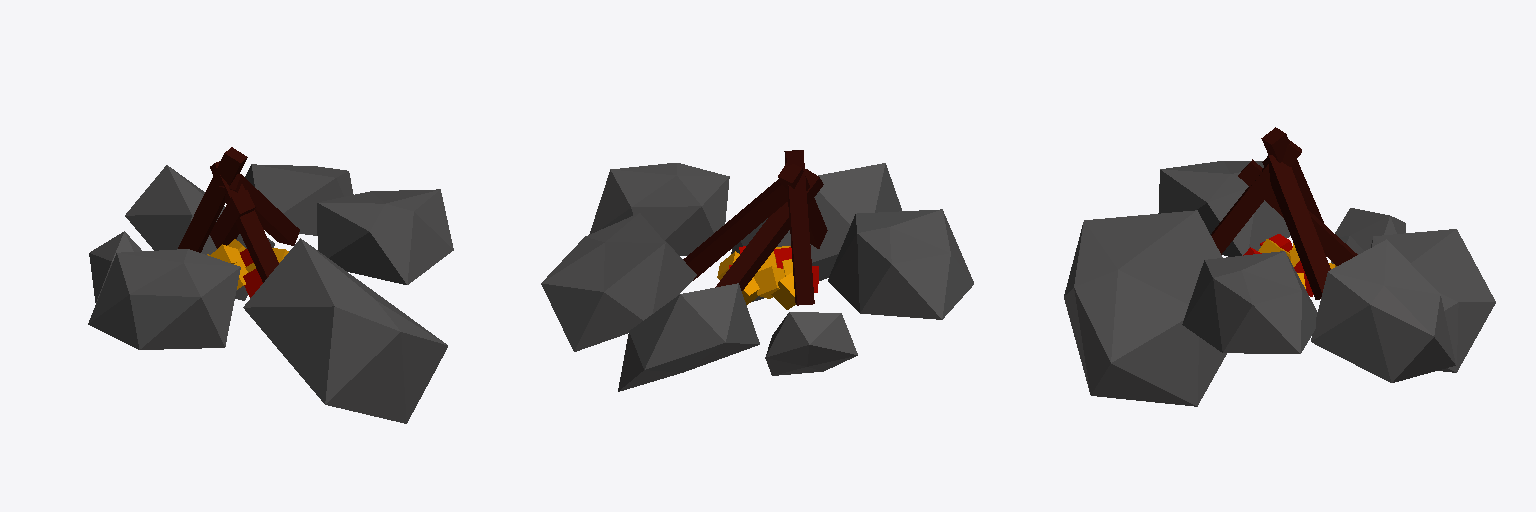
The model's file is campfire.obj.
The picture shows the model from 3 angles: view 1: azimuth 30°, elevation 25°; view 2: azimuth 150°, elevation 25°; view 3: azimuth 270°, elevation 25°; orthographic projection.
Visible parts, largest first — view 1: ROck_Icosphere.002, Rock3_Icosphere.005, Rock_Icosphere.001, ROck1_Icosphere.003, Rock2_Icosphere.004, Wood.001_Cube.002, Wood.002_Cube.003, Wood_Cube.001, Rock4_Icosphere.006, Wood.003_Cube.005; view 2: Rock2_Icosphere.004, Rock3_Icosphere.005, ROck1_Icosphere.003, Rock_Icosphere.001, ROck_Icosphere.002, Rock4_Icosphere.006, Wood_Cube.001, Wood.001_Cube.002, Wood.003_Cube.005, Wood.002_Cube.003, Coal.001_Cube.007, Coal.007_Cube.016; view 3: ROck_Icosphere.002, Rock2_Icosphere.004, Rock_Icosphere.001, ROck1_Icosphere.003, Rock3_Icosphere.005, Wood_Cube.001, Wood.002_Cube.003, Rock4_Icosphere.006, Wood.003_Cube.005, Wood.001_Cube.002.
Boxes of the visible parts, x1,y1,x2,y2 form: ROck_Icosphere.002: [243, 238, 447, 423]; Rock3_Icosphere.005: [88, 249, 240, 349]; Rock_Icosphere.001: [317, 189, 453, 284]; ROck1_Icosphere.003: [125, 165, 274, 300]; Rock2_Icosphere.004: [245, 164, 353, 235]; Wood.001_Cube.002: [178, 147, 247, 252]; Wood.002_Cube.003: [210, 161, 278, 282]; Wood_Cube.001: [219, 174, 299, 245]; Rock4_Icosphere.006: [89, 231, 141, 302]; Wood.003_Cube.005: [210, 190, 255, 248]; Rock2_Icosphere.004: [541, 213, 696, 351]; Rock3_Icosphere.005: [828, 209, 973, 319]; ROck1_Icosphere.003: [618, 283, 759, 391]; Rock_Icosphere.001: [589, 163, 729, 255]; ROck_Icosphere.002: [731, 163, 901, 301]; Rock4_Icosphere.006: [765, 312, 857, 375]; Wood_Cube.001: [683, 179, 787, 280]; Wood.001_Cube.002: [784, 150, 814, 305]; Wood.003_Cube.005: [715, 169, 823, 290]; Wood.002_Cube.003: [778, 163, 827, 248]; Coal.001_Cube.007: [754, 266, 784, 298]; Coal.007_Cube.016: [771, 272, 795, 309]; ROck_Icosphere.002: [1064, 210, 1226, 406]; Rock2_Icosphere.004: [1311, 239, 1455, 382]; Rock_Icosphere.001: [1182, 251, 1317, 353]; ROck1_Icosphere.003: [1371, 229, 1495, 372]; Rock3_Icosphere.005: [1158, 161, 1290, 256]; Wood_Cube.001: [1262, 155, 1330, 299]; Wood.002_Cube.003: [1211, 140, 1301, 254]; Rock4_Icosphere.006: [1331, 208, 1405, 263]; Wood.003_Cube.005: [1238, 159, 1357, 265]; Wood.001_Cube.002: [1261, 127, 1323, 223].
Size of the model in its own units: 5.11 by 3.21 by 5.59.